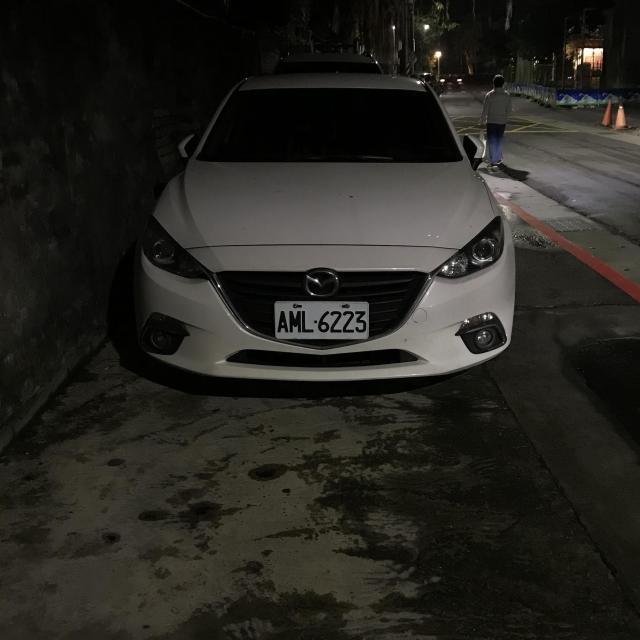W: (269, 298, 374, 342)
